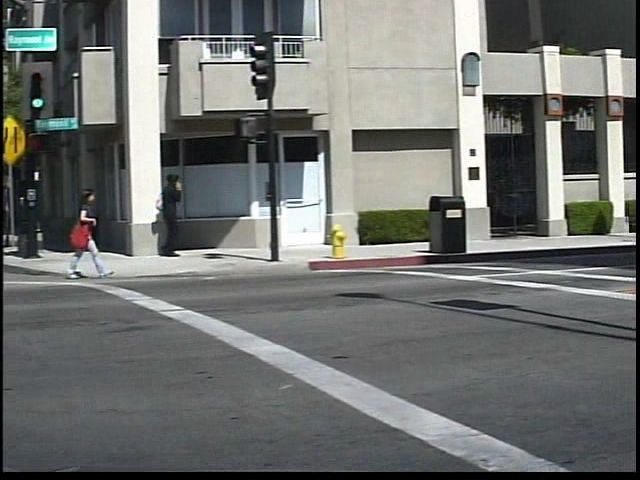person: (63, 183, 114, 285), (153, 171, 199, 261)
